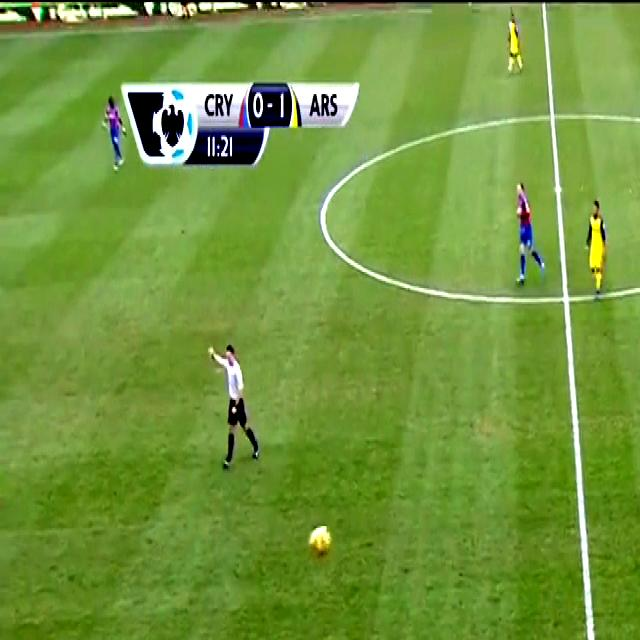ball: (308, 522, 339, 565)
referee: (202, 340, 270, 476)
soccer-player: (509, 180, 553, 292), (576, 195, 614, 304), (98, 94, 136, 180), (501, 12, 526, 77)
